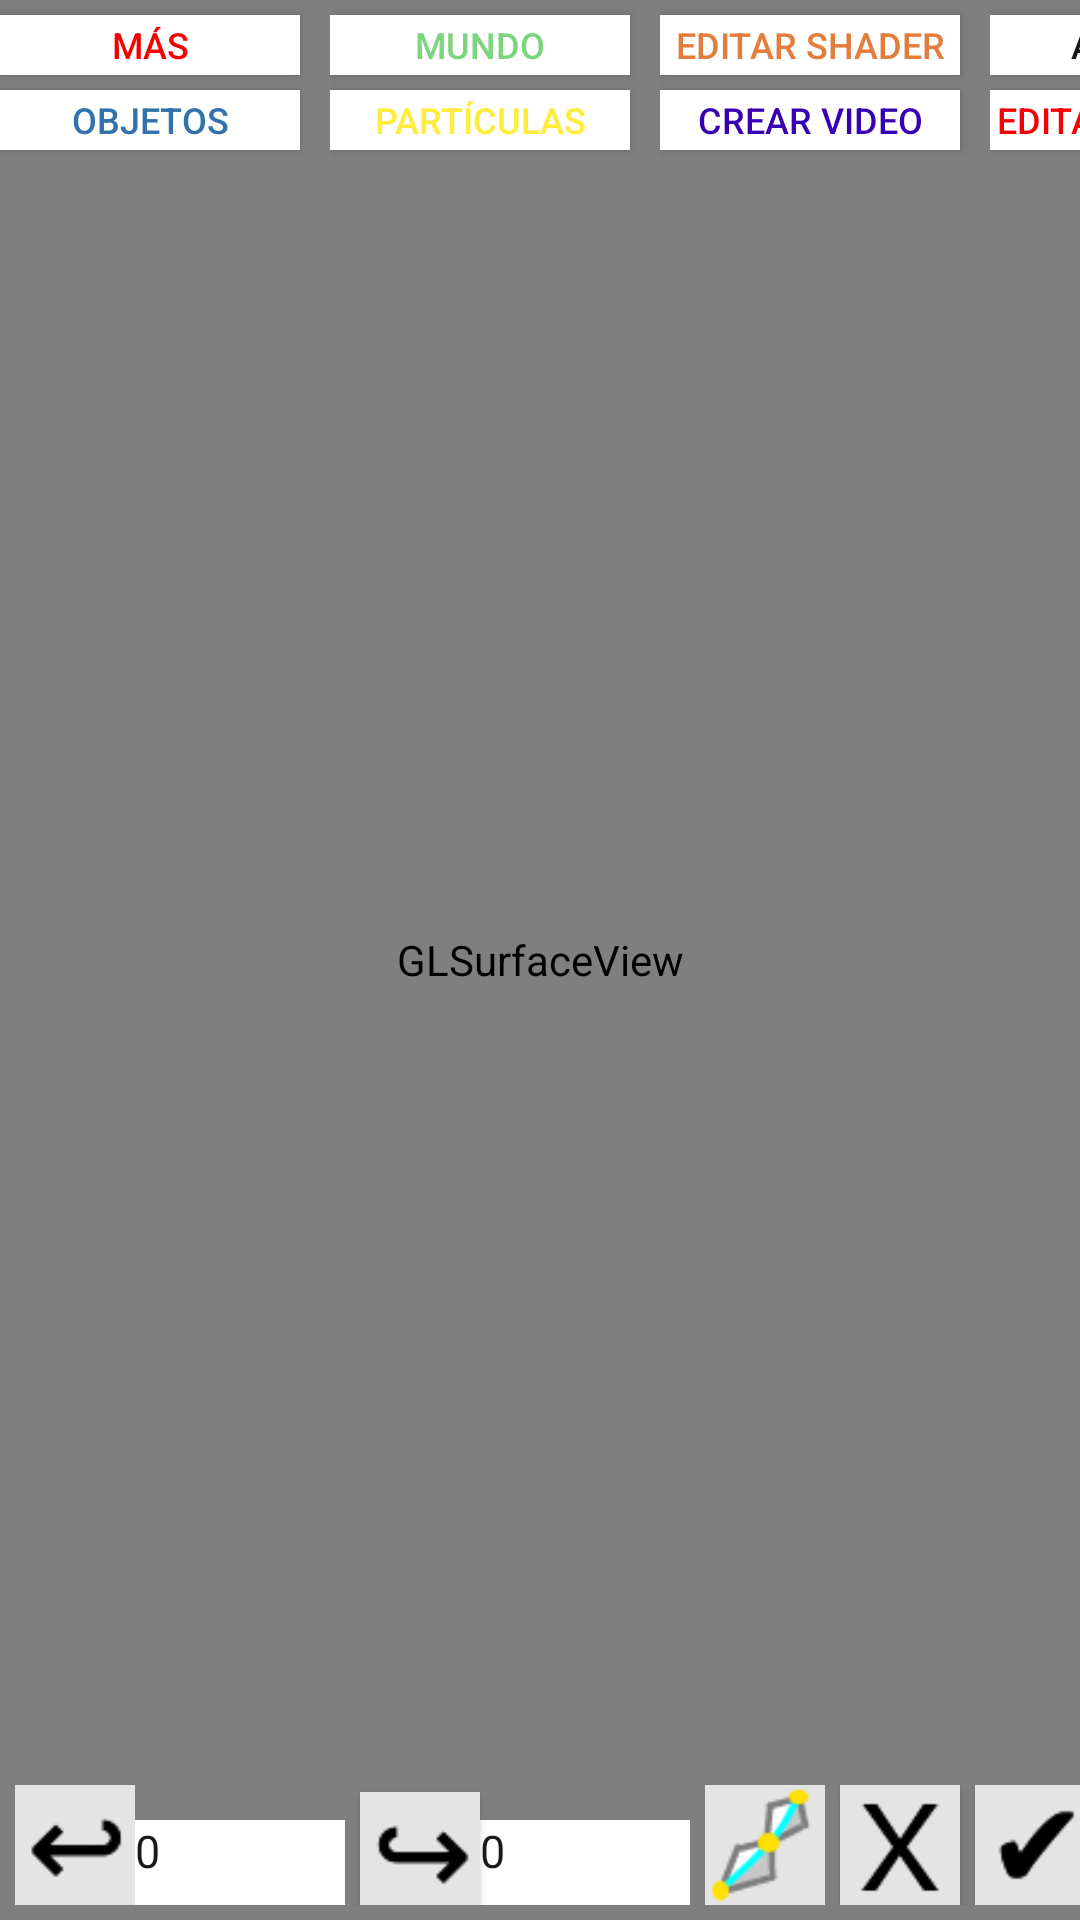

Icon bounding boxes for this 1080px×1920px phone screenshot, format (x1, y1, x2, y2):
adelante: (360, 1792, 480, 1905)
atras: (15, 1785, 135, 1905)
boneclick: (705, 1785, 825, 1905)
